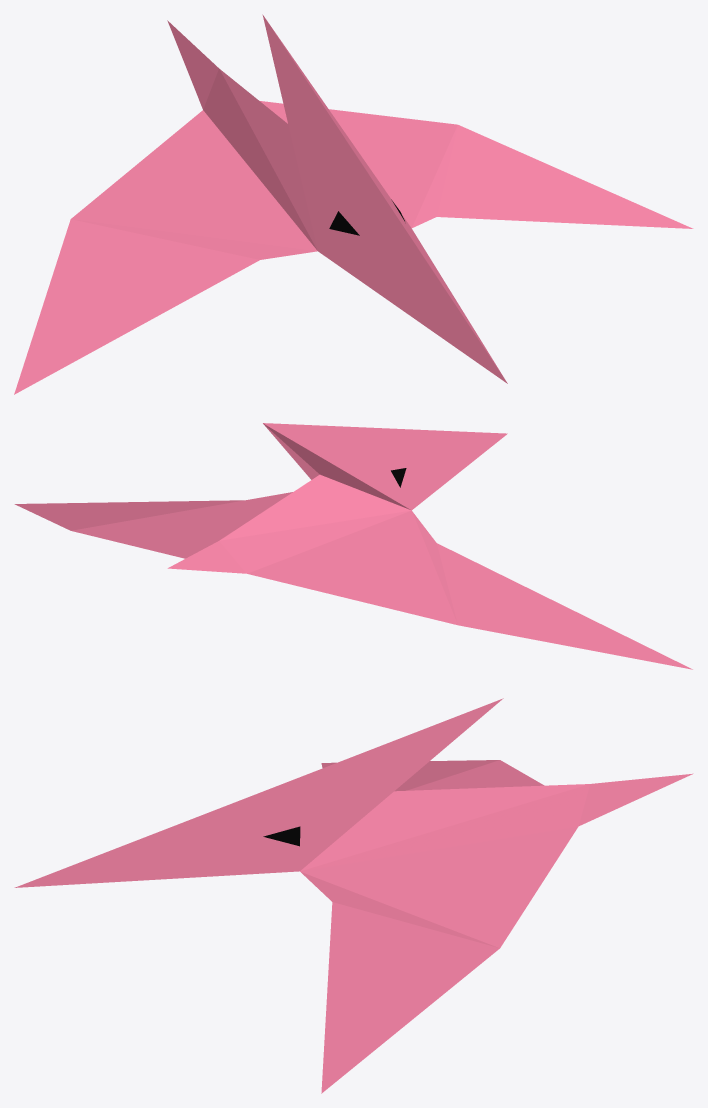
Rendered from PterodactylDDD.fbx.
The picture shows the model from 3 angles, top to bottom: view 1: azimuth 30°, elevation 25°; view 2: azimuth 150°, elevation 25°; view 3: azimuth 270°, elevation 25°; orthographic projection.
Parts seen in each view (by area): view 1: Sphere; view 2: Sphere; view 3: Sphere.
Part boxes in pixels (box(x1,y1,x2,y2)): Sphere: box(14, 14, 693, 394); Sphere: box(14, 423, 692, 669); Sphere: box(14, 698, 693, 1093).
Bounding box in the file's own units: 231 × 74.89 × 200.
